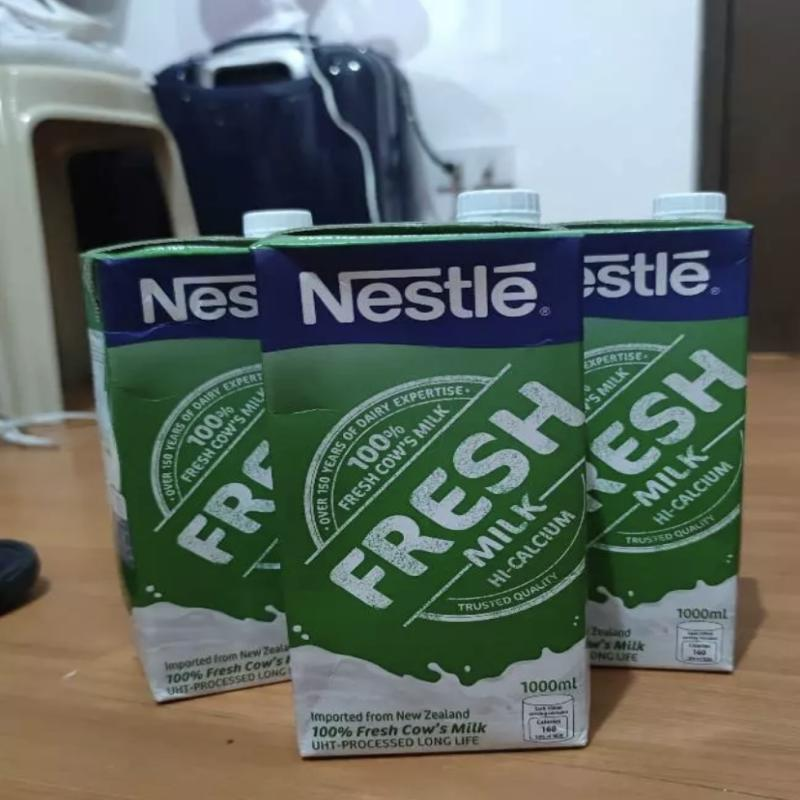uht carton: (253, 191, 595, 757), (80, 209, 315, 705), (558, 194, 755, 671)
